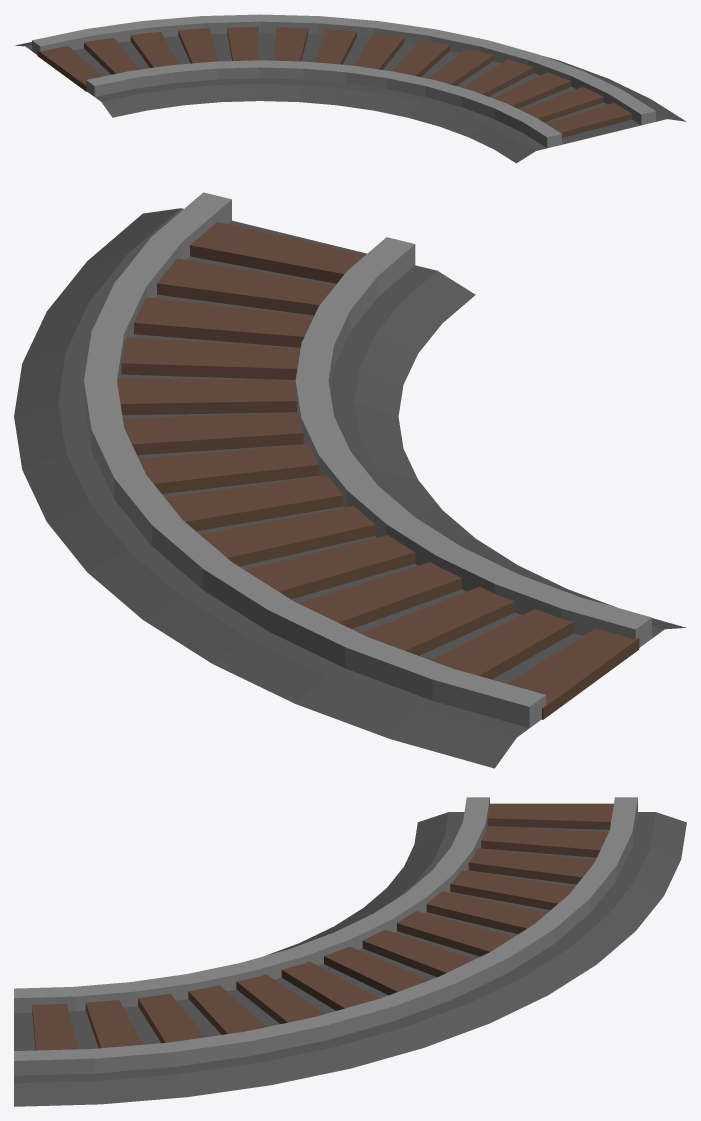
Rendered from rail8.fbx.
3 views of the same model, one above another, from view 1: azimuth 30°, elevation 25°; view 2: azimuth 150°, elevation 25°; view 3: azimuth 270°, elevation 25° (orthographic). The views are drawn at different scales.
Parts seen in each view (by area): view 1: Cube.031; view 2: Cube.031; view 3: Cube.031.
Boxes of the visible parts, bbox=[...] form: Cube.031: bbox=[15, 14, 686, 163]; Cube.031: bbox=[14, 192, 686, 768]; Cube.031: bbox=[14, 797, 686, 1106].
Bounding box in the file's own units: 98.19 × 4.05 × 98.04.
